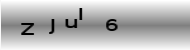6: (104, 18, 118, 31)
J: (48, 18, 54, 34)
Z: (19, 22, 34, 35)
l: (78, 8, 82, 20)
u: (64, 18, 77, 28)
